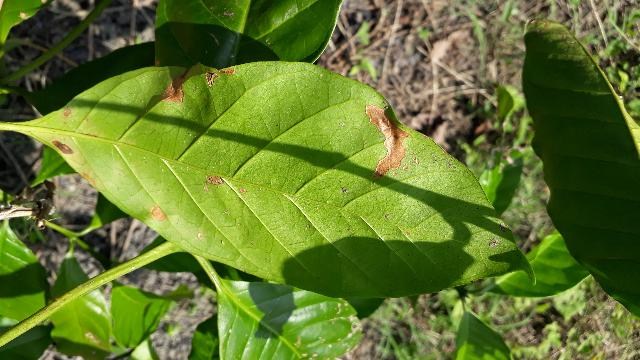red_spider_mite: (106, 65, 640, 297)
